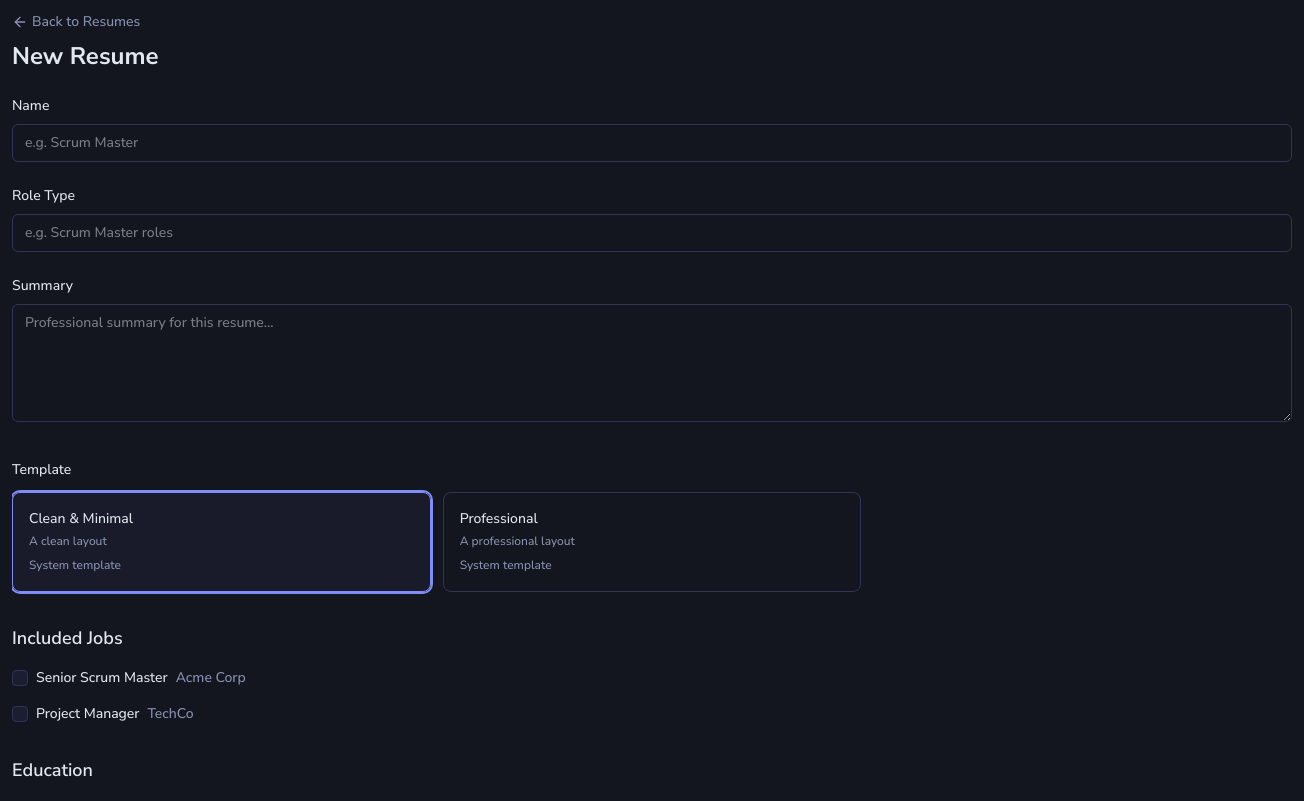
NewResumeWizard › job checkboxes › hides bullets when a checked job is unchecked
# Check the job
Click the checkbox named "Senior Scrum Master at Acme Corp".
click(20, 678)  # box [12,670,28,686]
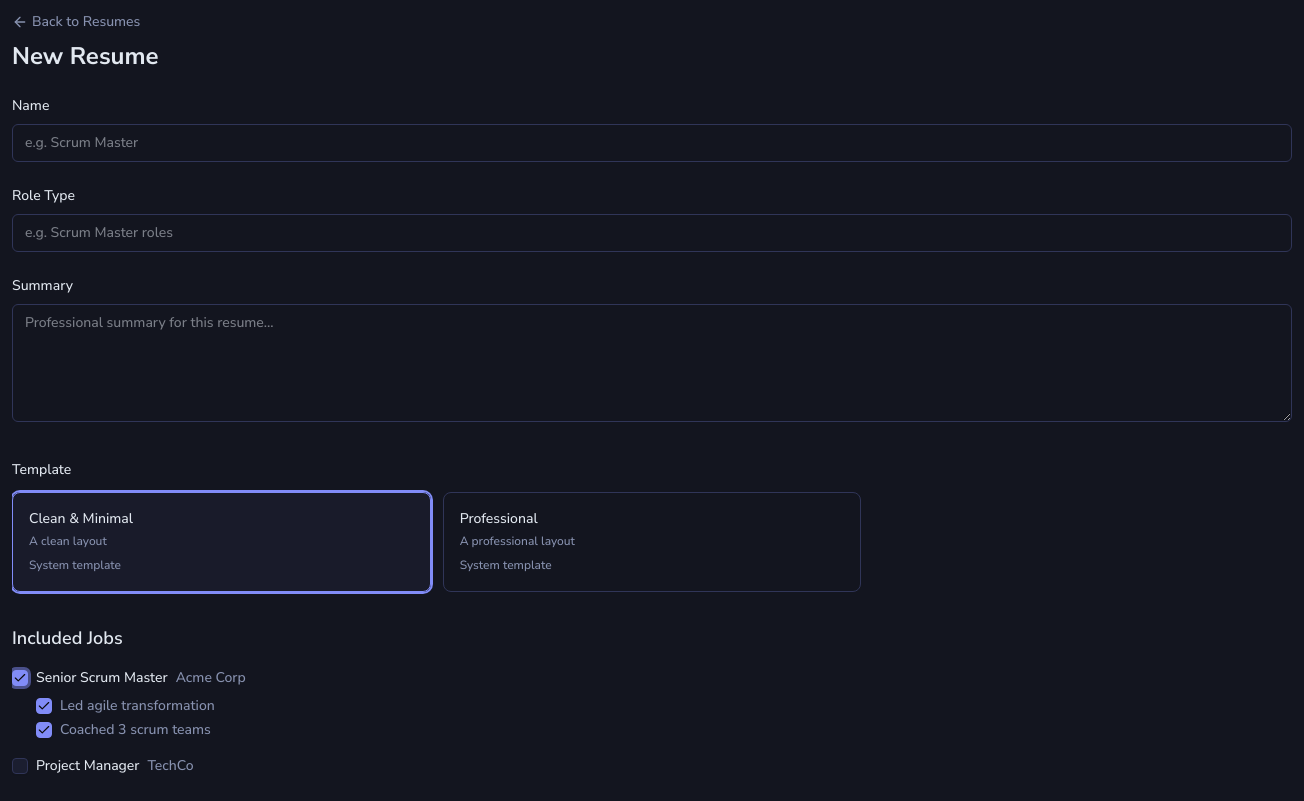
Check: the text "Led agile transformation" is shown, box [60,696,215,716]
# Uncheck the job
Click the checkbox named "Senior Scrum Master at Acme Corp".
click(20, 678)  # box [12,670,28,686]
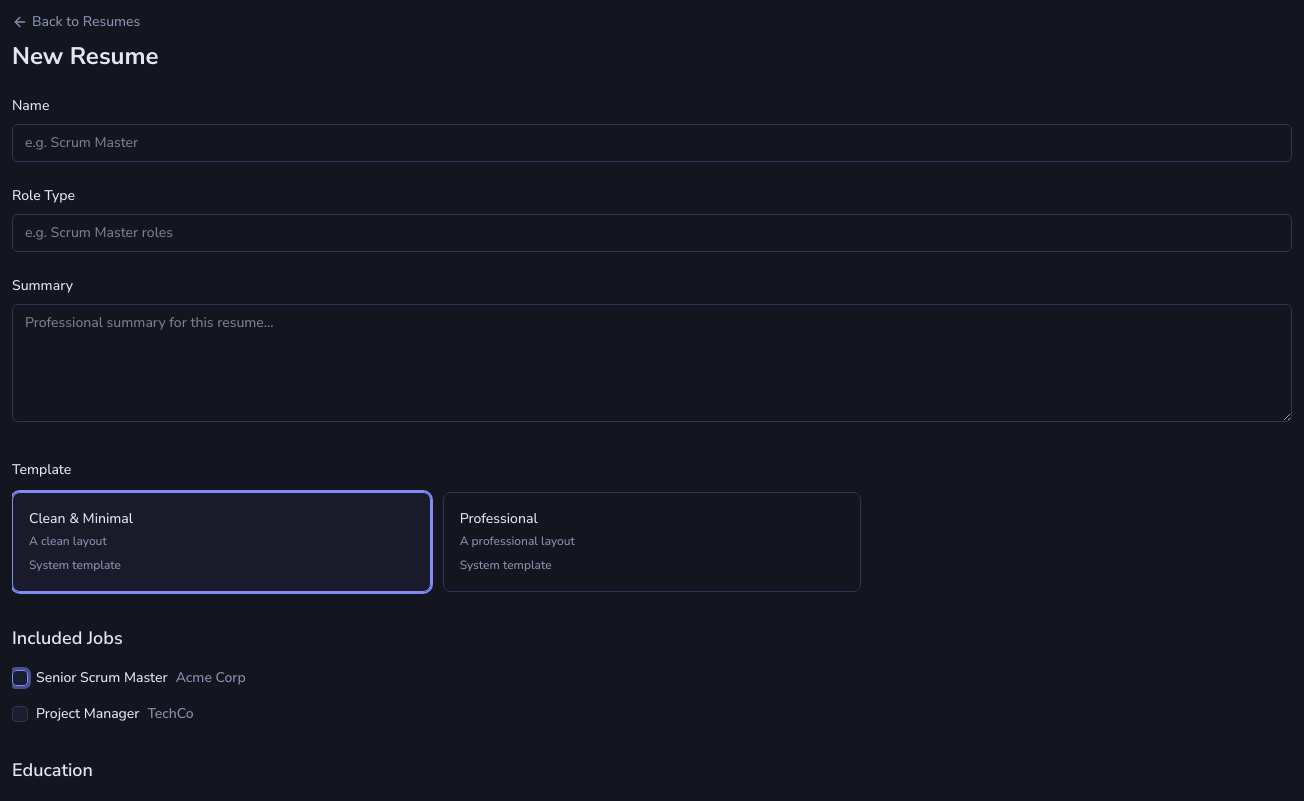
Check: the text "Led agile transformation" is gone
